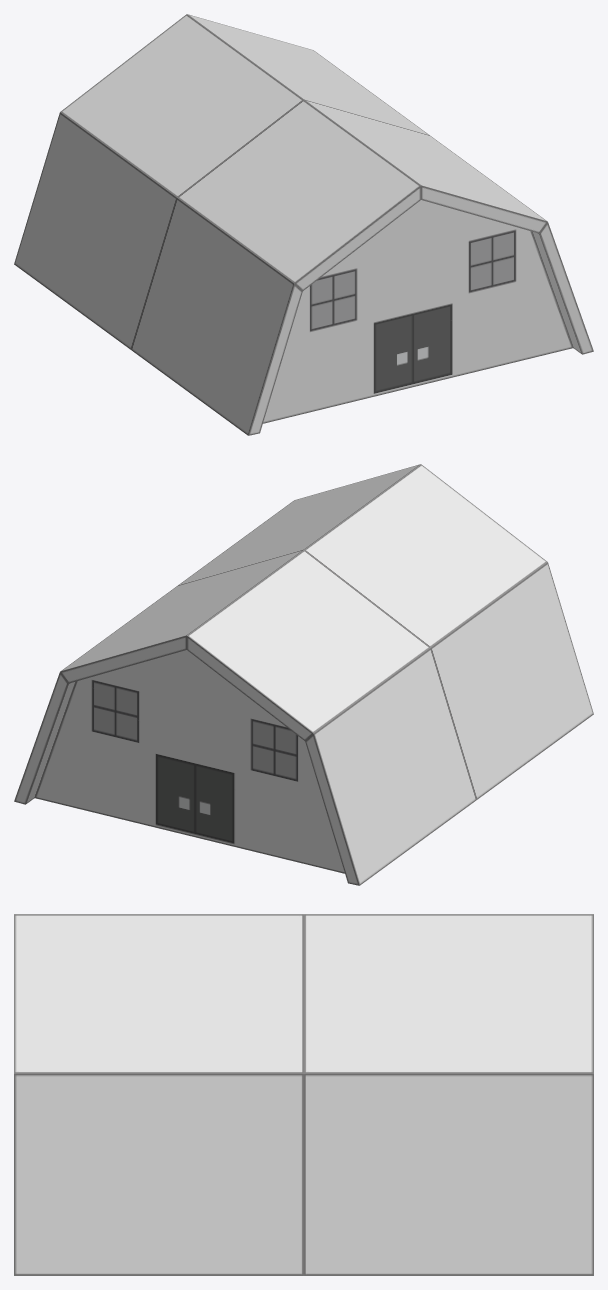
File: PersonLivePlace.fbx
3 renders of one model, top to bottom at view 1: azimuth 30°, elevation 25°; view 2: azimuth 150°, elevation 25°; view 3: azimuth 270°, elevation 25°, orthographic. The views are drawn at different scales.
Visible parts, largest first — view 1: LightTower_Texture_Body; view 2: LightTower_Texture_Body; view 3: LightTower_Texture_Body.
Boxes of the visible parts, box(x1,y1,x2,y2) form: LightTower_Texture_Body: box(14, 14, 593, 435); LightTower_Texture_Body: box(14, 464, 593, 885); LightTower_Texture_Body: box(14, 914, 593, 1275).
Bounding box in the file's own units: 34.06 × 19.63 × 40.
